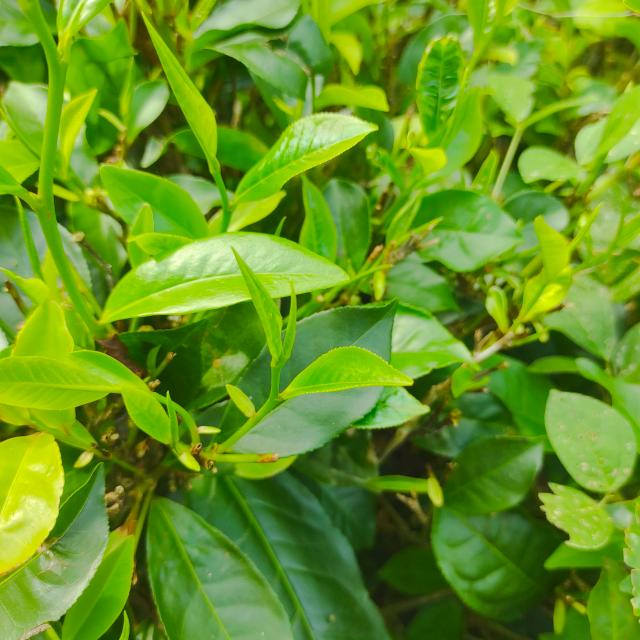unopened_leaf: (428, 62, 478, 158), (563, 196, 611, 258), (276, 276, 302, 372), (163, 388, 186, 458)
